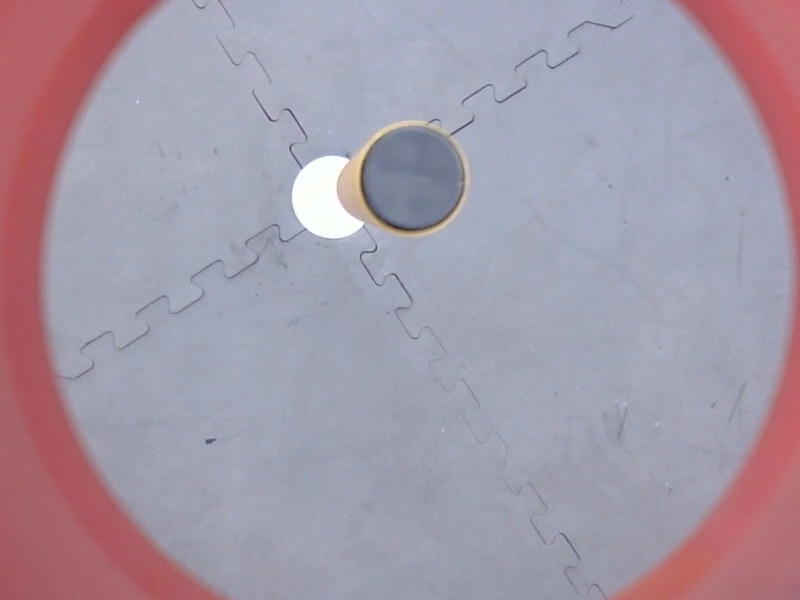tip: (352, 116, 478, 241)
